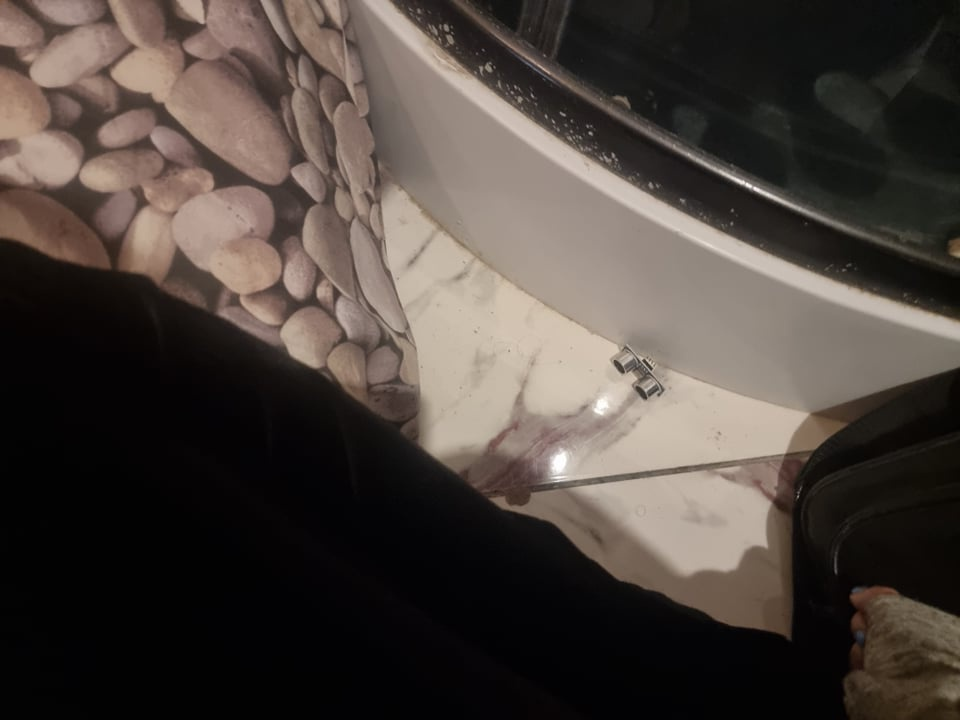SENSOR: (610, 346, 671, 403)
